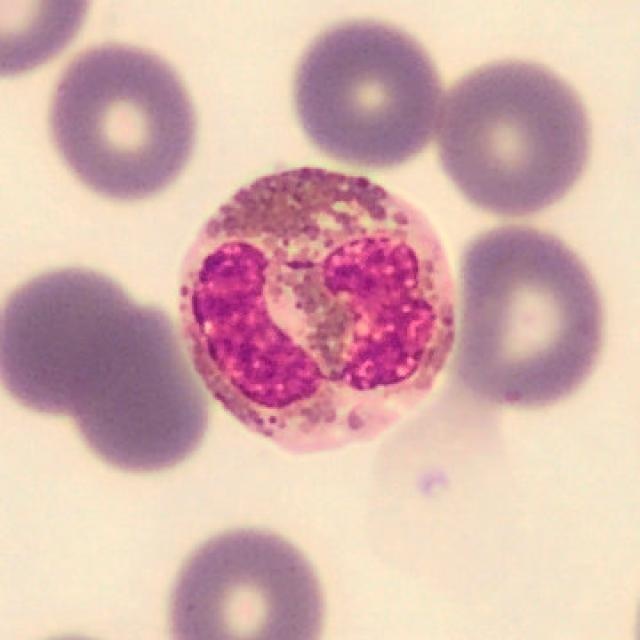Eosinofilo: (176, 167, 460, 457)
